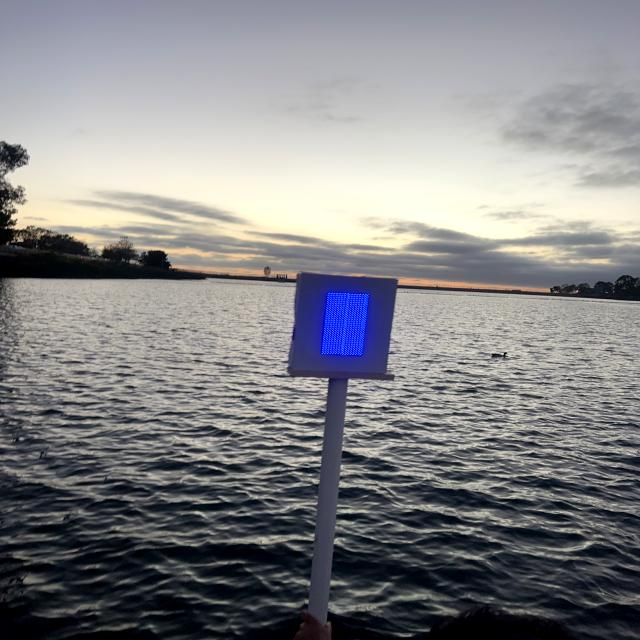led: (306, 274, 378, 376)
